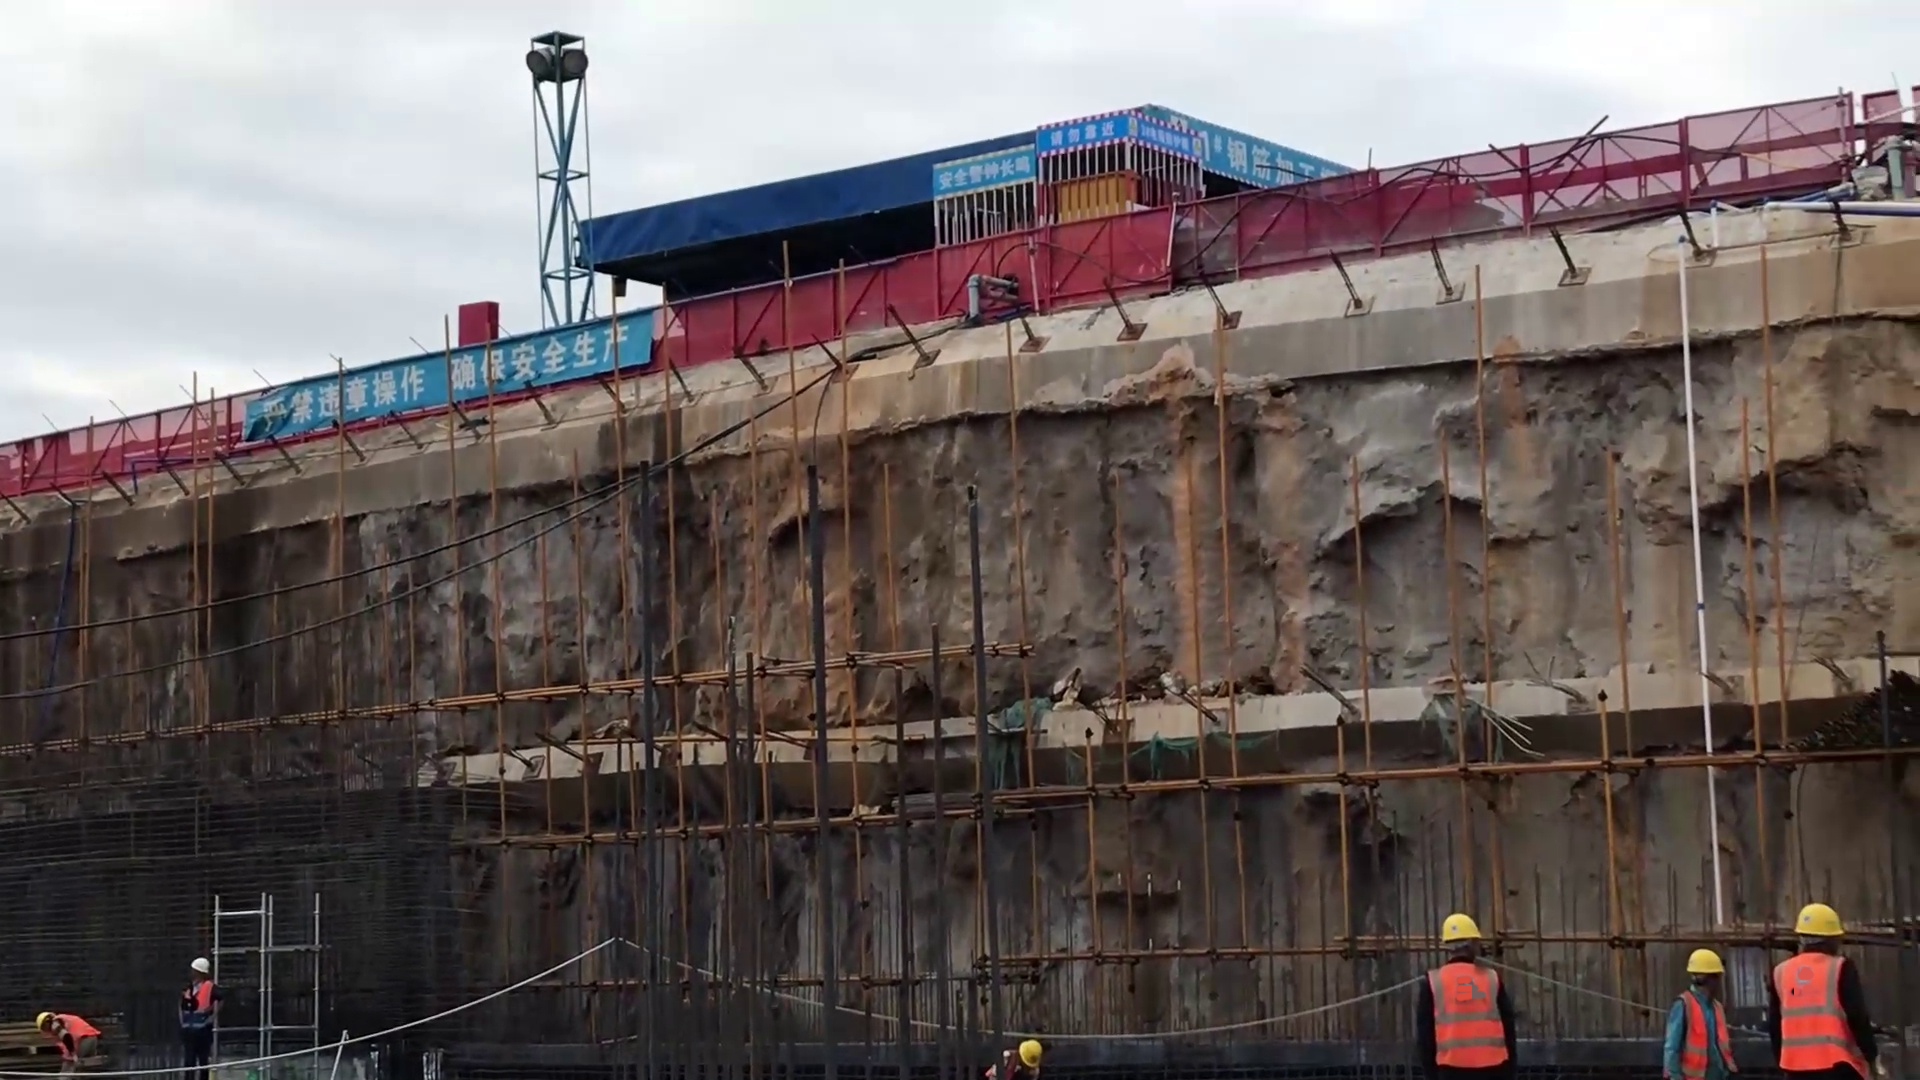helmet: (1792, 896, 1850, 950), (1443, 912, 1493, 943), (1683, 950, 1732, 980), (1020, 1037, 1046, 1070), (185, 954, 211, 974), (33, 1008, 47, 1037)
person: (1765, 895, 1874, 1080), (1415, 906, 1515, 1080), (1650, 947, 1746, 1077), (169, 956, 222, 1080), (24, 1003, 108, 1080), (975, 1031, 1047, 1080)
vest: (1774, 953, 1874, 1072), (1420, 959, 1513, 1069), (1665, 987, 1739, 1070), (175, 976, 222, 1029), (55, 1013, 102, 1057)
